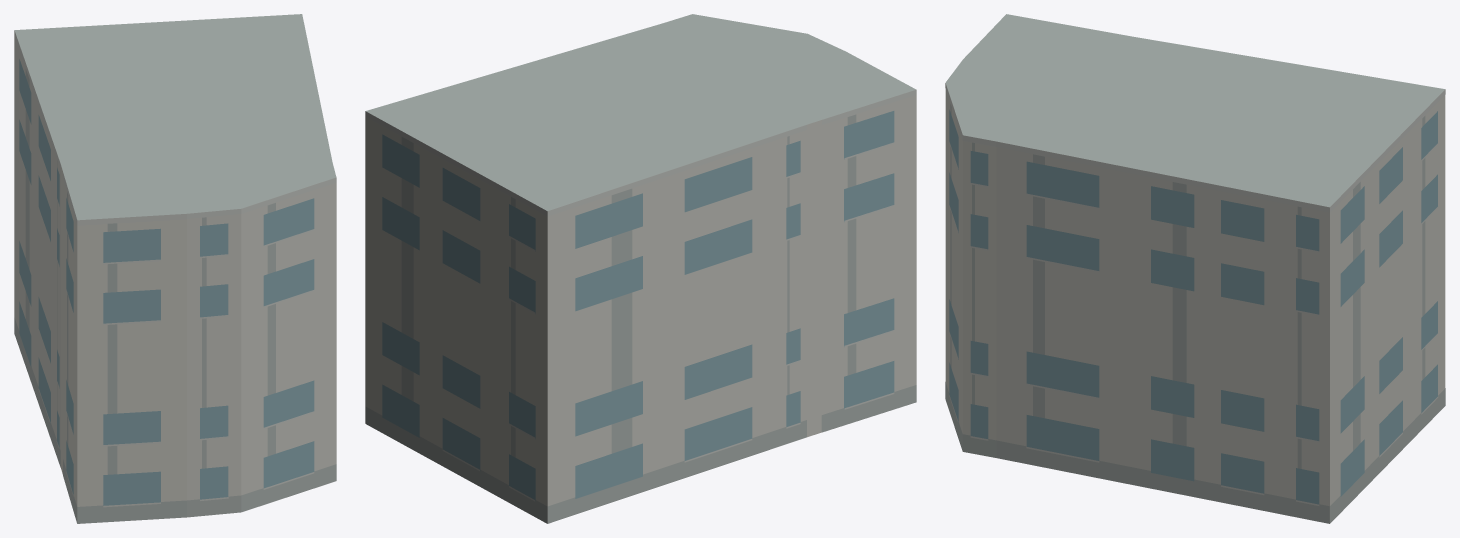
Rendered from survey-upis-32835156.glb.
3 renders of one model, left to right at view 1: azimuth 30°, elevation 25°; view 2: azimuth 150°, elevation 25°; view 3: azimuth 270°, elevation 25°, orthographic. The views are drawn at different scales.
Parts seen in each view (by area): view 1: survey-upis-32835156.tmp; view 2: survey-upis-32835156.tmp; view 3: survey-upis-32835156.tmp.
Part boxes in pixels (x1,y1,x2,y2): survey-upis-32835156.tmp: (14, 14, 336, 523); survey-upis-32835156.tmp: (365, 14, 916, 523); survey-upis-32835156.tmp: (945, 14, 1445, 523).
Size of the model in its own units: 18.15 by 13.85 by 19.83.
